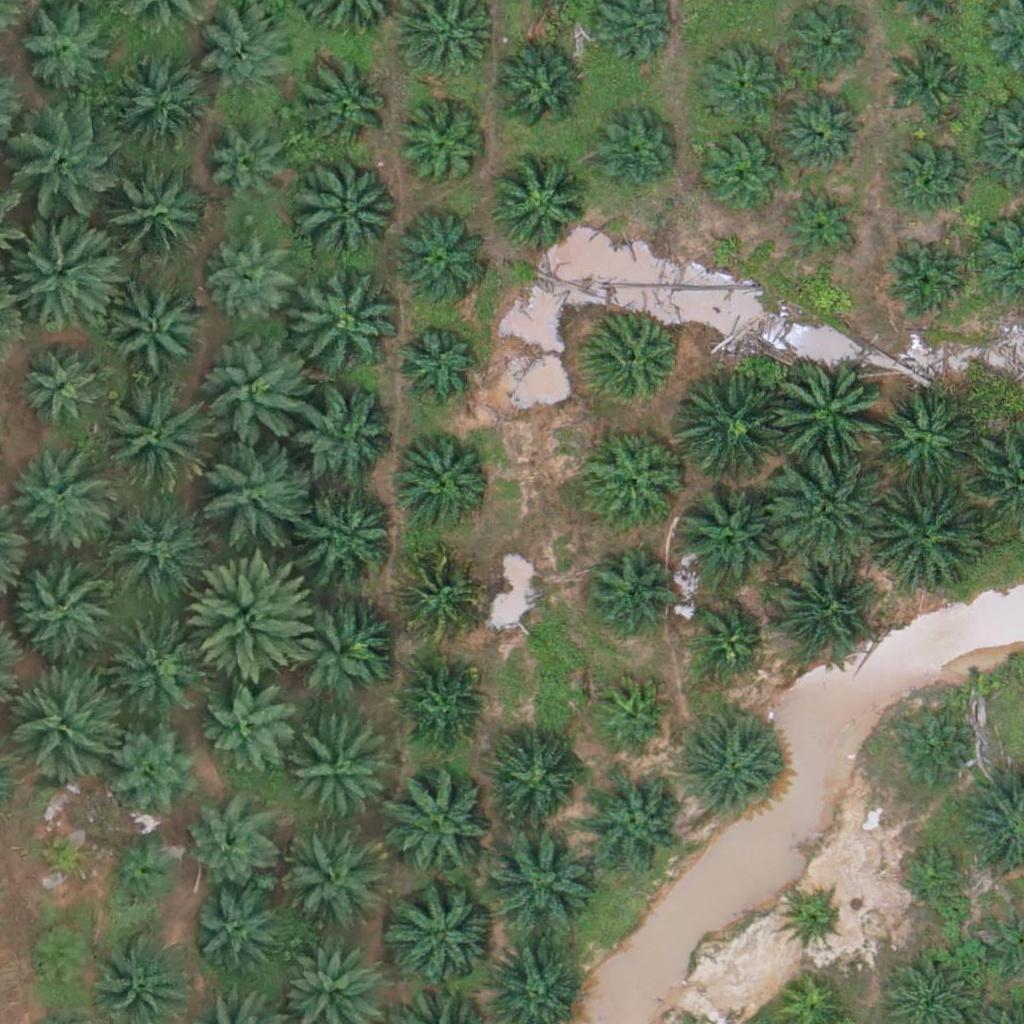Kelapa_Sawit: (192, 556, 317, 682), (866, 480, 979, 594), (194, 434, 307, 548), (95, 163, 208, 277), (483, 822, 596, 935), (384, 766, 497, 879), (388, 877, 501, 990), (96, 382, 209, 495), (100, 494, 213, 607), (7, 549, 120, 662), (673, 376, 786, 489), (288, 265, 401, 378), (12, 109, 125, 222), (201, 340, 314, 453), (294, 150, 406, 264), (774, 455, 886, 568), (5, 667, 117, 780), (773, 359, 885, 472), (7, 214, 119, 327), (674, 485, 774, 586), (394, 427, 494, 528), (301, 486, 401, 587), (287, 723, 387, 824), (282, 835, 382, 936), (104, 615, 204, 716), (106, 716, 206, 817), (873, 386, 973, 487), (488, 41, 588, 142), (489, 157, 589, 258), (107, 279, 207, 380), (772, 560, 872, 660), (682, 720, 782, 820), (585, 428, 685, 528), (588, 773, 688, 873), (296, 393, 396, 493), (286, 593, 386, 693), (583, 313, 683, 413), (391, 213, 491, 313), (300, 57, 400, 157), (201, 1, 301, 101), (108, 57, 208, 157), (885, 707, 973, 795), (582, 545, 670, 633), (493, 740, 581, 828), (393, 551, 481, 639), (186, 803, 274, 891), (883, 240, 971, 328), (400, 107, 488, 195), (392, 320, 480, 408), (19, 345, 107, 433), (189, 890, 276, 979), (396, 659, 483, 747), (204, 683, 291, 771), (591, 109, 678, 197), (701, 126, 788, 214), (697, 41, 784, 129), (782, 2, 869, 90), (783, 86, 870, 174), (881, 130, 968, 218), (889, 33, 976, 121), (205, 134, 292, 222), (210, 239, 297, 327), (105, 836, 180, 912), (784, 183, 859, 259), (594, 676, 669, 752), (24, 923, 99, 999), (689, 602, 764, 677), (897, 838, 972, 913), (782, 889, 845, 952), (31, 824, 93, 887)
